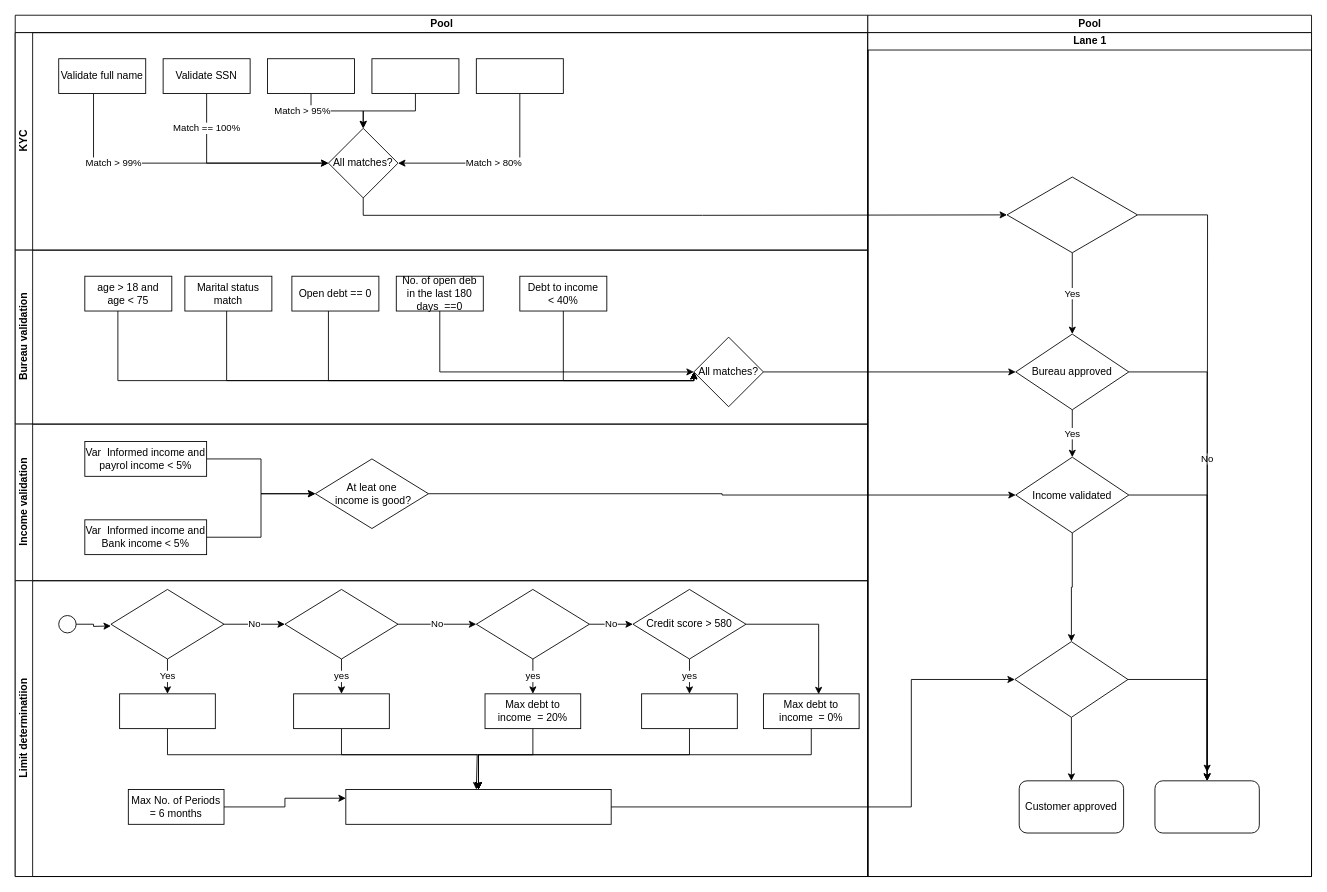
Image size: 1327x892. Some labels were removed from this diagram. The centre of each missing label's shape, as x and y in pixels:
Credit Limit = PV(2%, Max per, Valid Income * Max deb to income): [478,806]
Credit limit > min accepted?: [1071,679]
Credit score > 650: [532,624]
Credit score > 750: [341,624]
Credit score > 800: [167,624]
Customer rejected: [1206,806]
KYC Aproved: [1072,214]
Max debt to income = 10%: [689,711]
Max debt to income = 30%: [341,711]
Max debt to income = 40%: [167,711]
Validate Address: [311,76]
Validate Biometric Photo: [519,76]
Validate Phone Number: [415,76]
